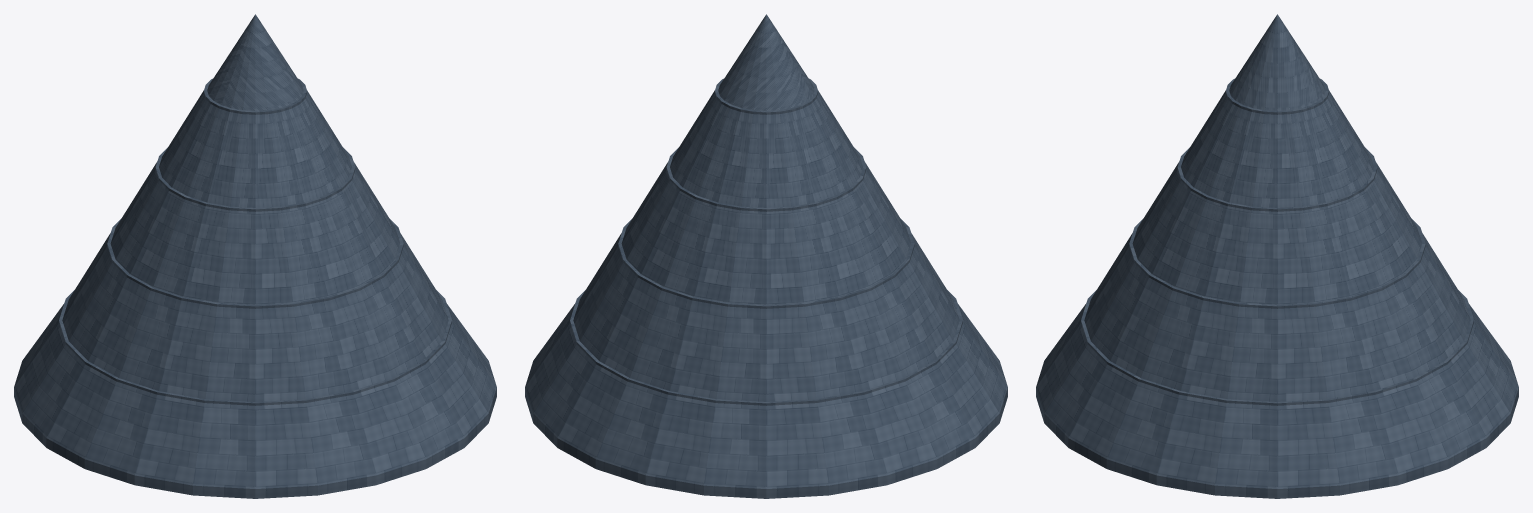
Rendered from Furn_Tower2_Roof.fbx.
3 views of the same model, side by side, from view 1: azimuth 30°, elevation 25°; view 2: azimuth 150°, elevation 25°; view 3: azimuth 270°, elevation 25° (orthographic).
Parts seen in each view (by area): view 1: Furn_Tower2_Roof; view 2: Furn_Tower2_Roof; view 3: Furn_Tower2_Roof.
Boxes of the visible parts, bbox=[...] form: Furn_Tower2_Roof: bbox=[14, 14, 496, 498]; Furn_Tower2_Roof: bbox=[525, 14, 1007, 498]; Furn_Tower2_Roof: bbox=[1036, 14, 1518, 498].
Size of the model in its own units: 8 by 7 by 8.
